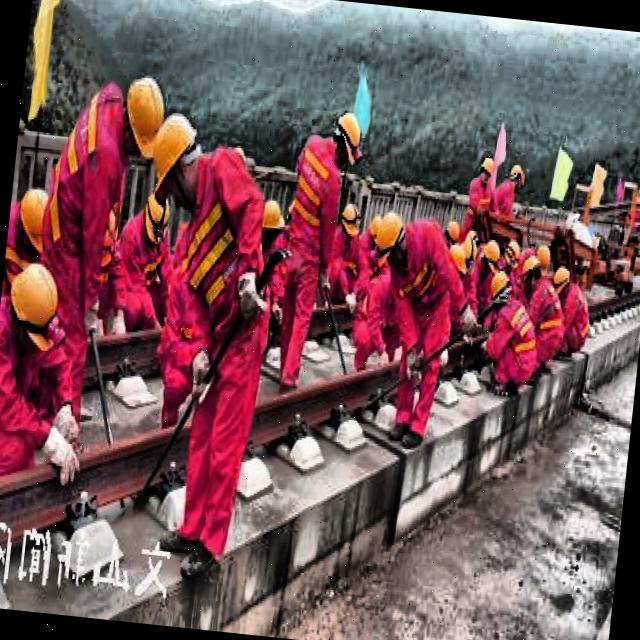helmet: (144, 108, 208, 208), (114, 68, 172, 163), (3, 256, 66, 340), (8, 182, 58, 264), (366, 210, 412, 274), (136, 182, 176, 254), (328, 102, 368, 168), (250, 189, 288, 252), (518, 252, 548, 303), (336, 198, 362, 253), (485, 266, 517, 308), (548, 260, 578, 304), (476, 235, 503, 278), (472, 149, 498, 191), (502, 162, 530, 199), (441, 214, 464, 252)
